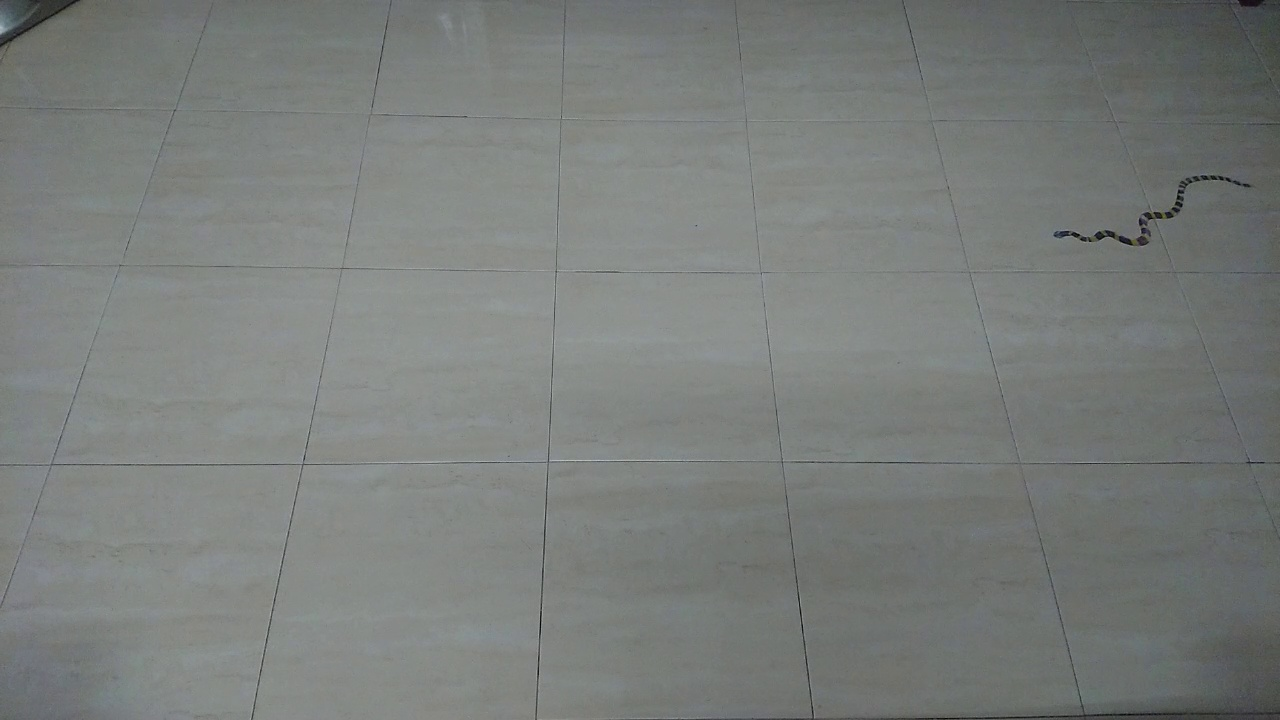snake: (1038, 162, 1269, 265)
